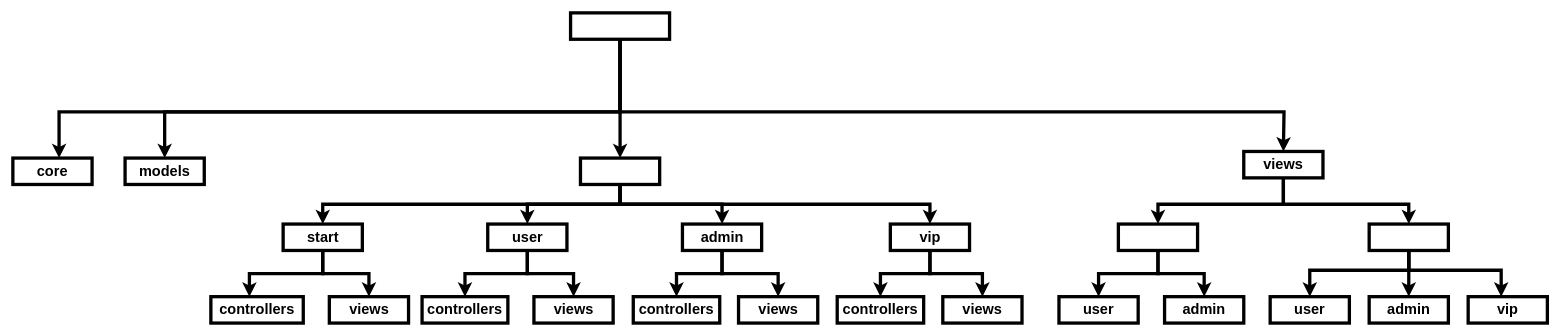
The diagram is 1560 pixels wide and 336 high, and some of its shapes have lost their labels. Here are the shapes that lost their labels. From the top down, the centre of each, then its label:
the point at 620,26: Application
the point at 619,171: modules
the point at 1157,237: main
the point at 1408,237: menu
